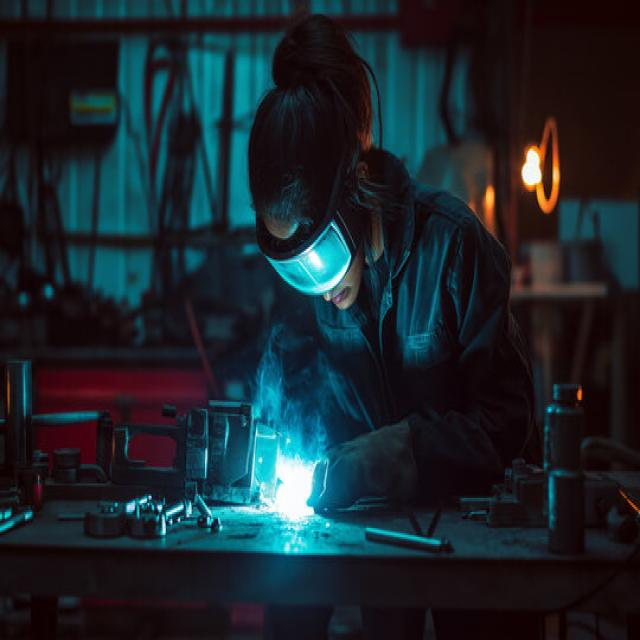welding: (277, 451, 316, 518)
